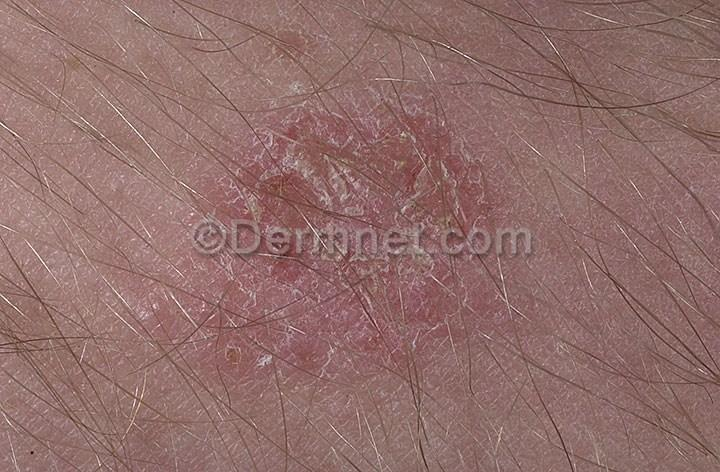Eczema: (173, 58, 561, 405), (252, 2, 342, 89)
